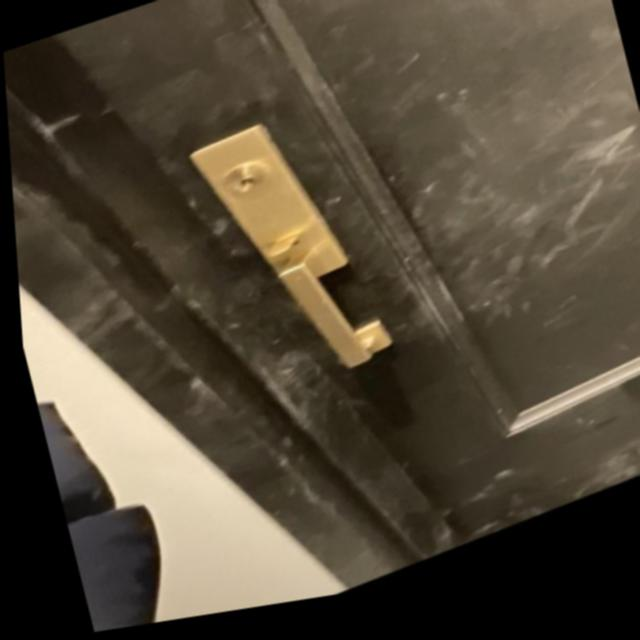door_handle: (265, 234, 391, 406)
